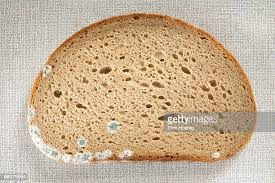mold_bread: (28, 128, 60, 160), (65, 152, 92, 164), (96, 149, 114, 161), (106, 120, 120, 135), (119, 148, 133, 162), (24, 106, 35, 123), (41, 63, 53, 77), (77, 136, 88, 147), (211, 151, 221, 159)
